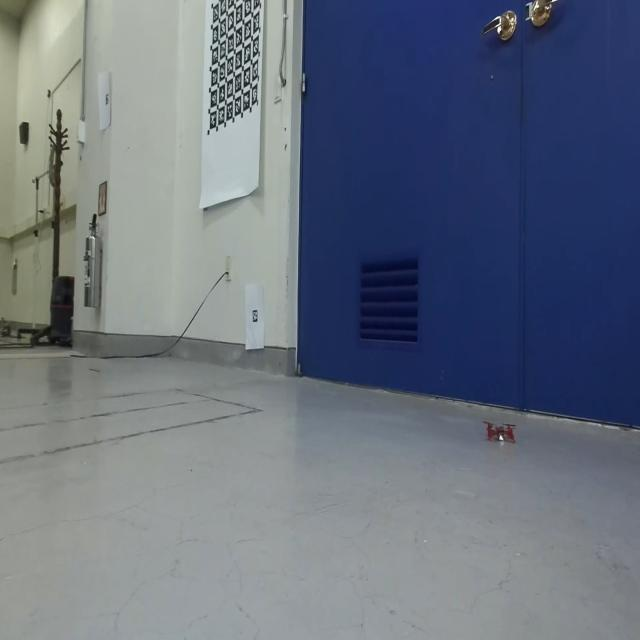crazyflie: (480, 414, 518, 453)
